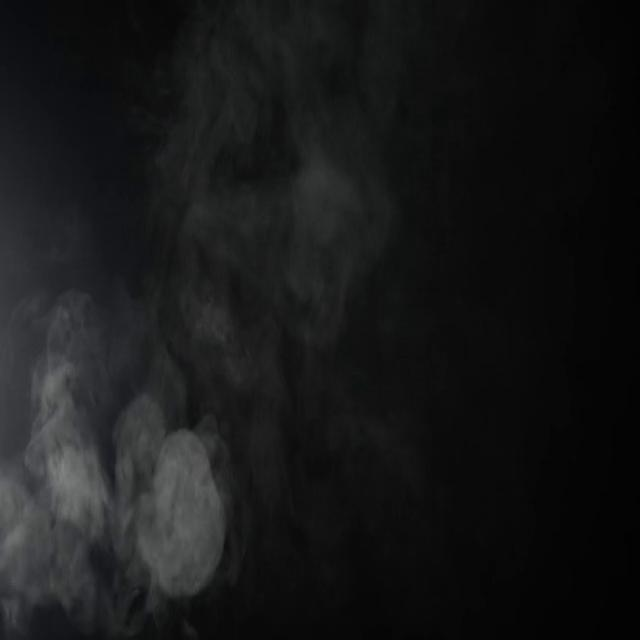smoke: (38, 321, 128, 514), (0, 430, 86, 631), (120, 414, 219, 582)
